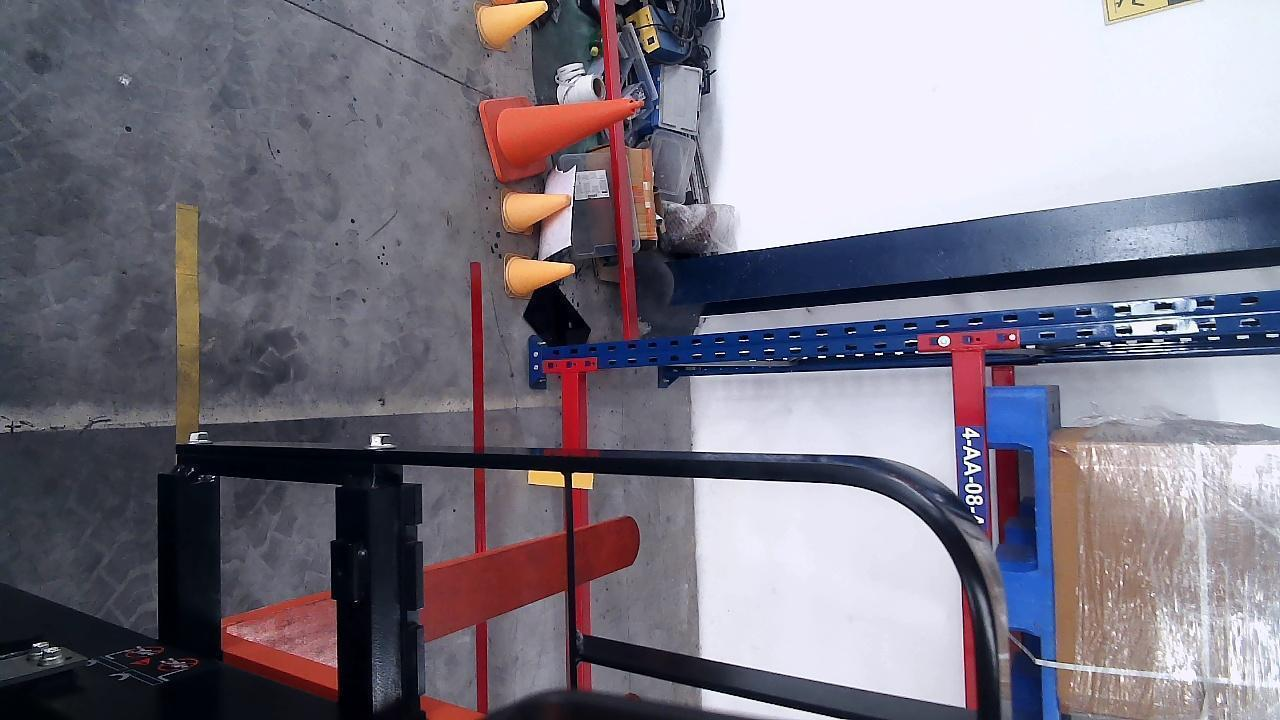red_line: (469, 261, 489, 551)
yellow_line: (173, 201, 199, 428)
